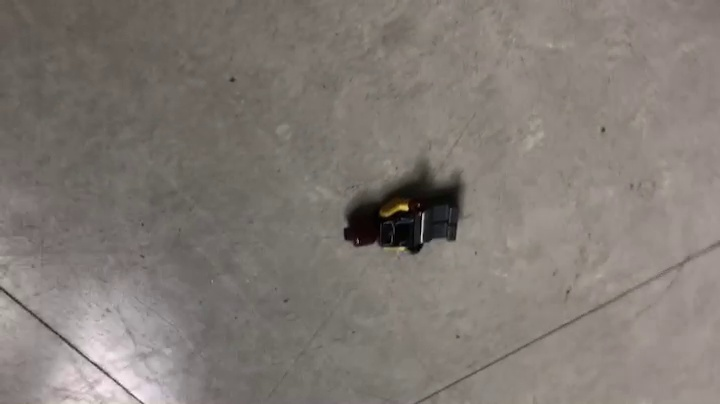people: (342, 194, 464, 255)
